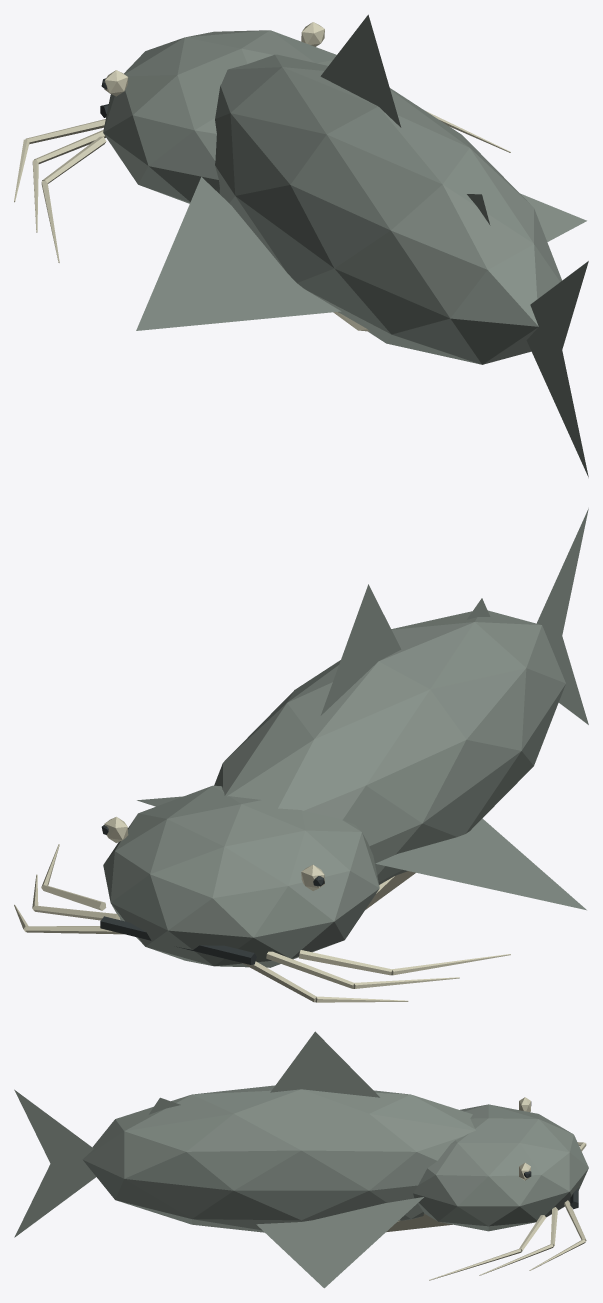
File: Catfish.fbx
3 renders of one model, top to bottom at view 1: azimuth 30°, elevation 25°; view 2: azimuth 150°, elevation 25°; view 3: azimuth 270°, elevation 25°, orthographic. The views are drawn at different scales.
Parts seen in each view (by area): view 1: Body, Head, Pectoral1, TailFin, Dorsal, Pectoral-1, BarbelBase1_0, BarbelBase1_2; view 2: Body, Head, Pectoral1, Dorsal, TailFin, Mouth, BarbelBase1_2, BarbelBase1_1, BarbelBase-1_0; view 3: Body, Head, Pectoral-1, TailFin, Dorsal, Belly.
Part boxes in pixels (box(x1,y1,x2,y2)): Body: box(215, 54, 561, 364); Head: box(103, 30, 336, 203); Pectoral1: box(136, 177, 341, 330); TailFin: box(526, 261, 588, 477); Dorsal: box(320, 14, 401, 127); Pectoral-1: box(520, 193, 586, 241); BarbelBase1_0: box(26, 119, 105, 144); BarbelBase1_2: box(42, 136, 106, 183); Body: box(214, 610, 565, 884); Head: box(103, 785, 379, 967); Pectoral1: box(375, 818, 586, 910); Dorsal: box(320, 584, 401, 715); TailFin: box(536, 508, 588, 724); Mouth: box(100, 916, 256, 964); BarbelBase1_2: box(299, 950, 392, 975); BarbelBase1_1: box(266, 951, 354, 988); BarbelBase-1_0: box(25, 926, 123, 934); Body: box(82, 1085, 475, 1232); Head: box(413, 1104, 588, 1231); Pectoral-1: box(256, 1197, 423, 1288); TailFin: box(14, 1089, 95, 1237); Dorsal: box(270, 1031, 379, 1097); Belly: box(386, 1214, 452, 1232).
Bounding box in the file's own units: 0.7817 × 0.5 × 1.26.
